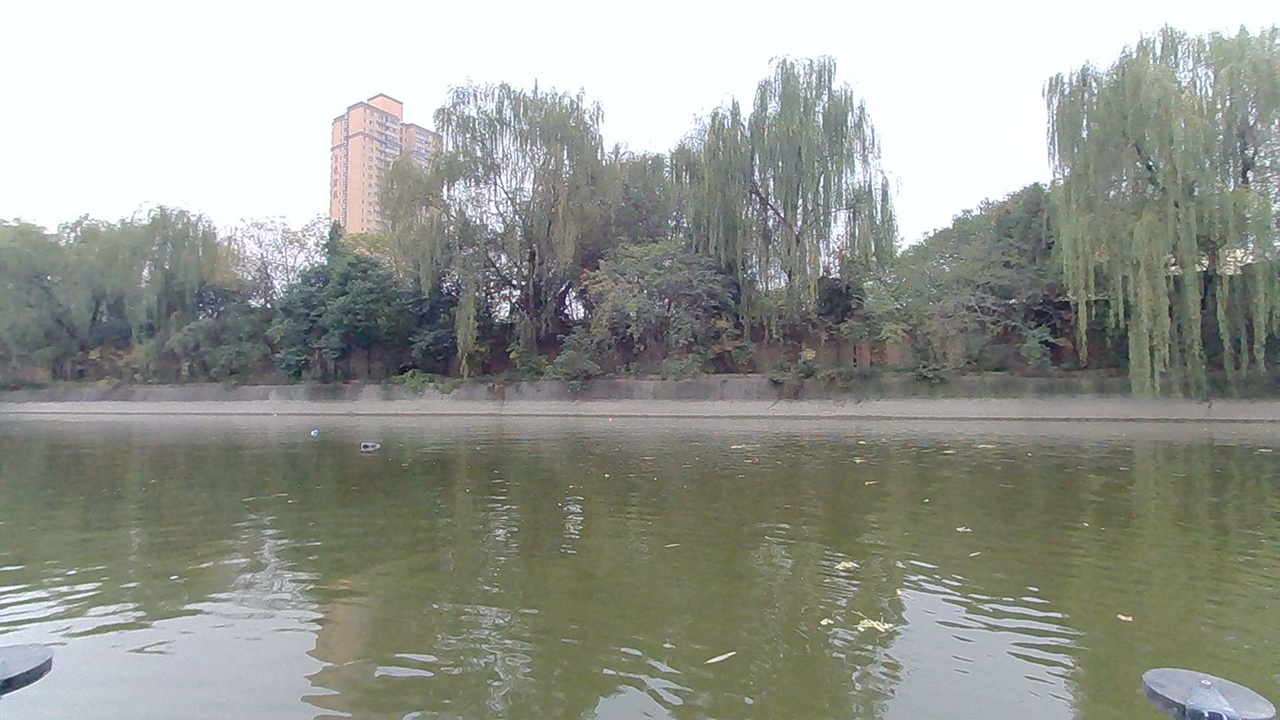bottle: (357, 430, 401, 458), (305, 422, 338, 446)
